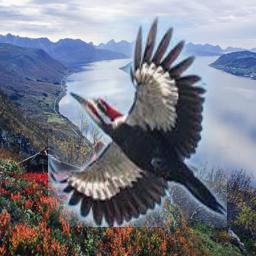Woodpecker: (48, 16, 227, 227)
